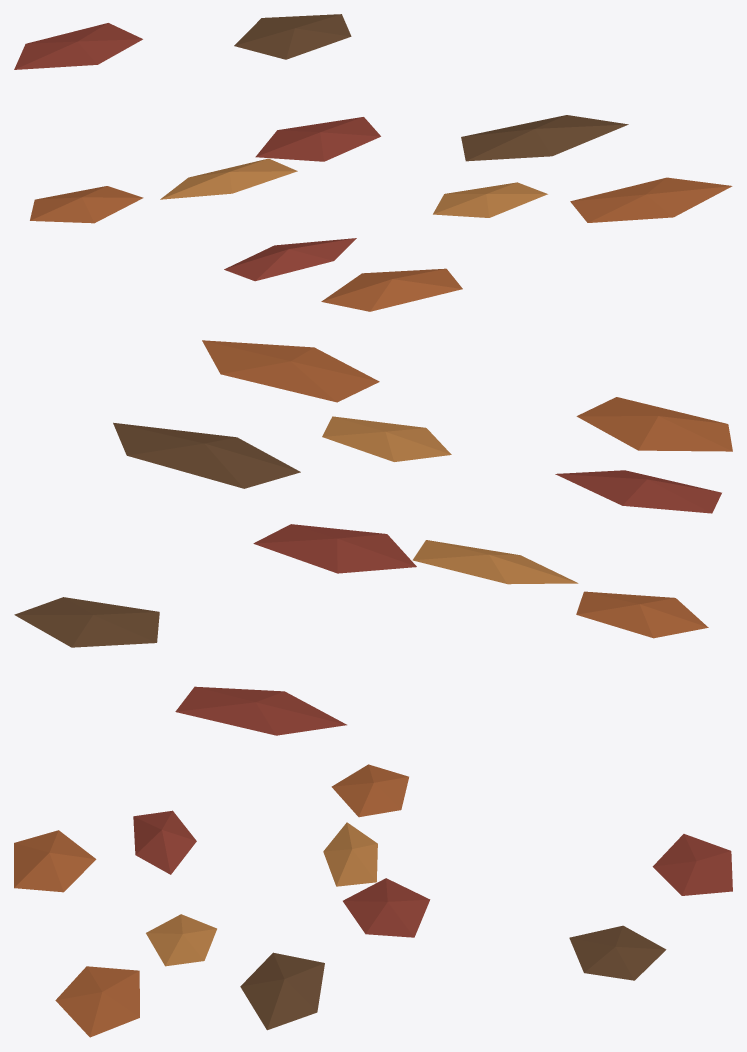
Rendered from flat.leaves.a_low.glb.
3 renders of one model, top to bottom at view 1: azimuth 30°, elevation 25°; view 2: azimuth 150°, elevation 25°; view 3: azimuth 270°, elevation 25°, orthographic. The views are drawn at different scales.
Bounding box in the file's own units: 0.7142 × 0.012 × 0.7942.
